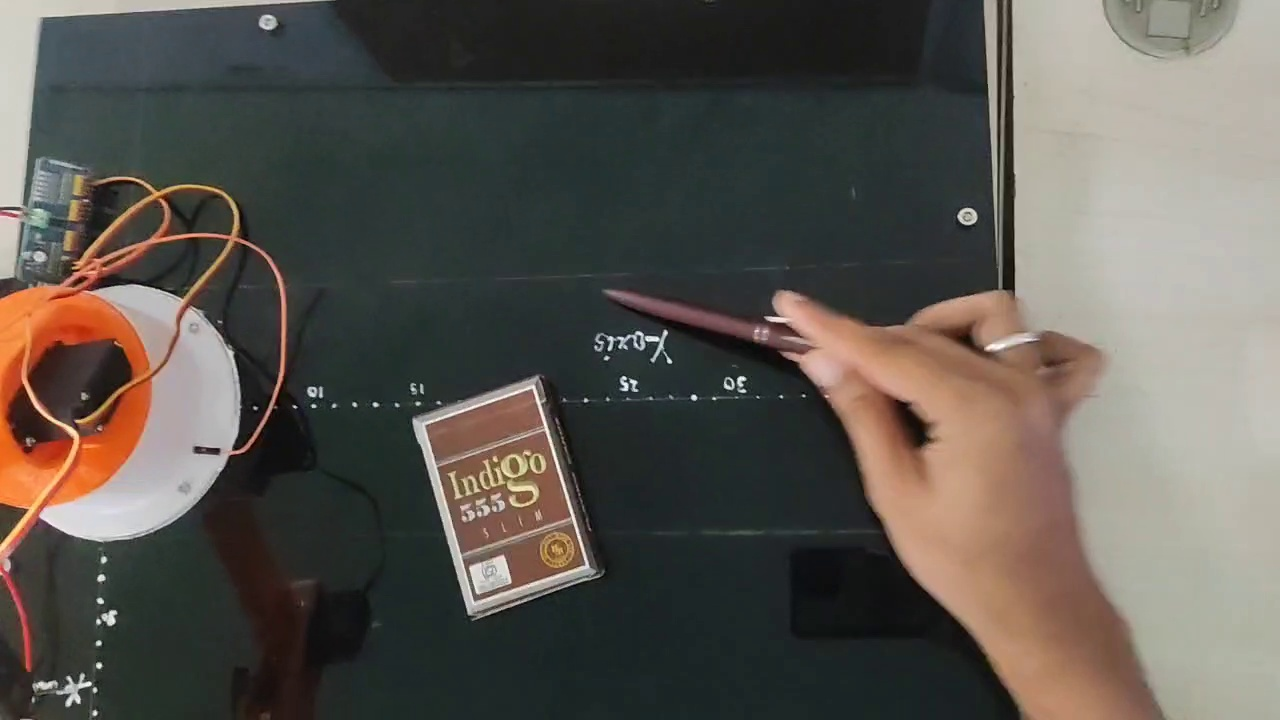BEX: (428, 384, 585, 604)
